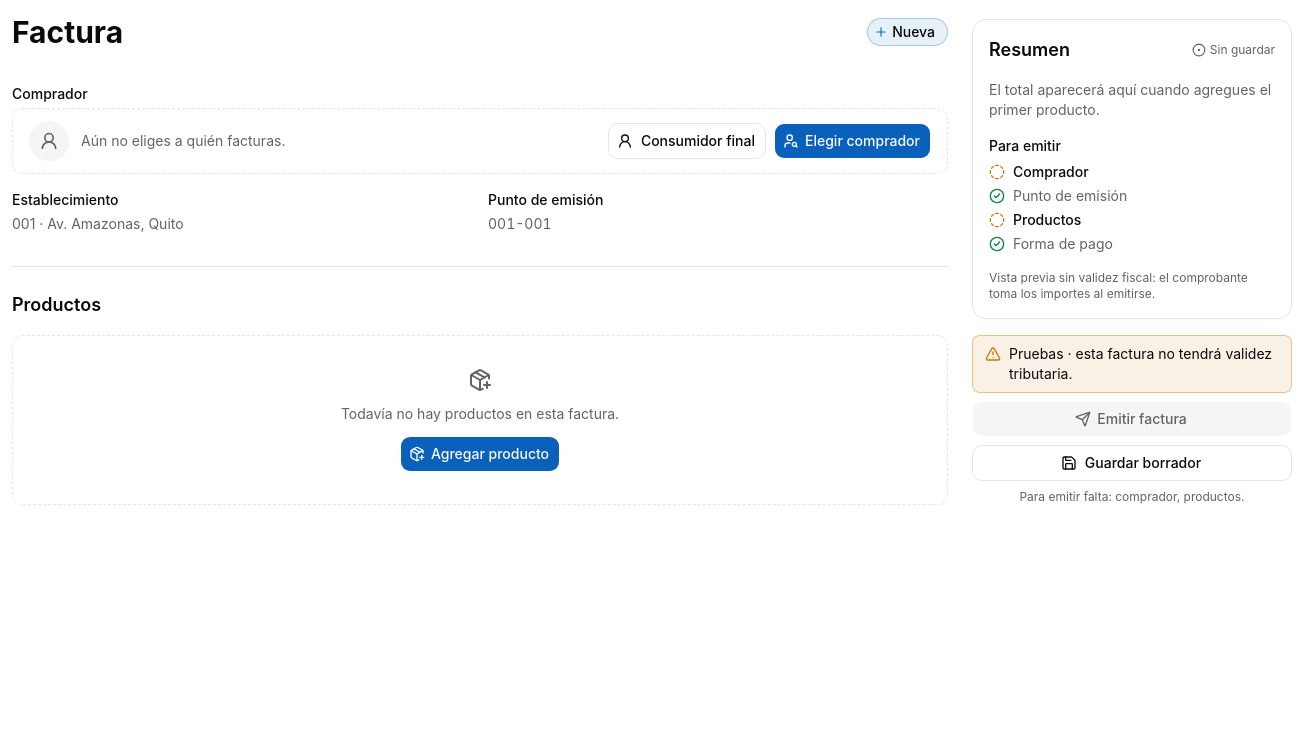
Scenario: emitir como acción principal › un borrador incompleto, sin comprador ni líneas, se guarda
expect the text "001 · Av. Amazonas, Quito" is shown: met, box [12,215,184,232]
Click the button "Guardar borrador". click: (1132, 463)
box: [972,445,1292,481]
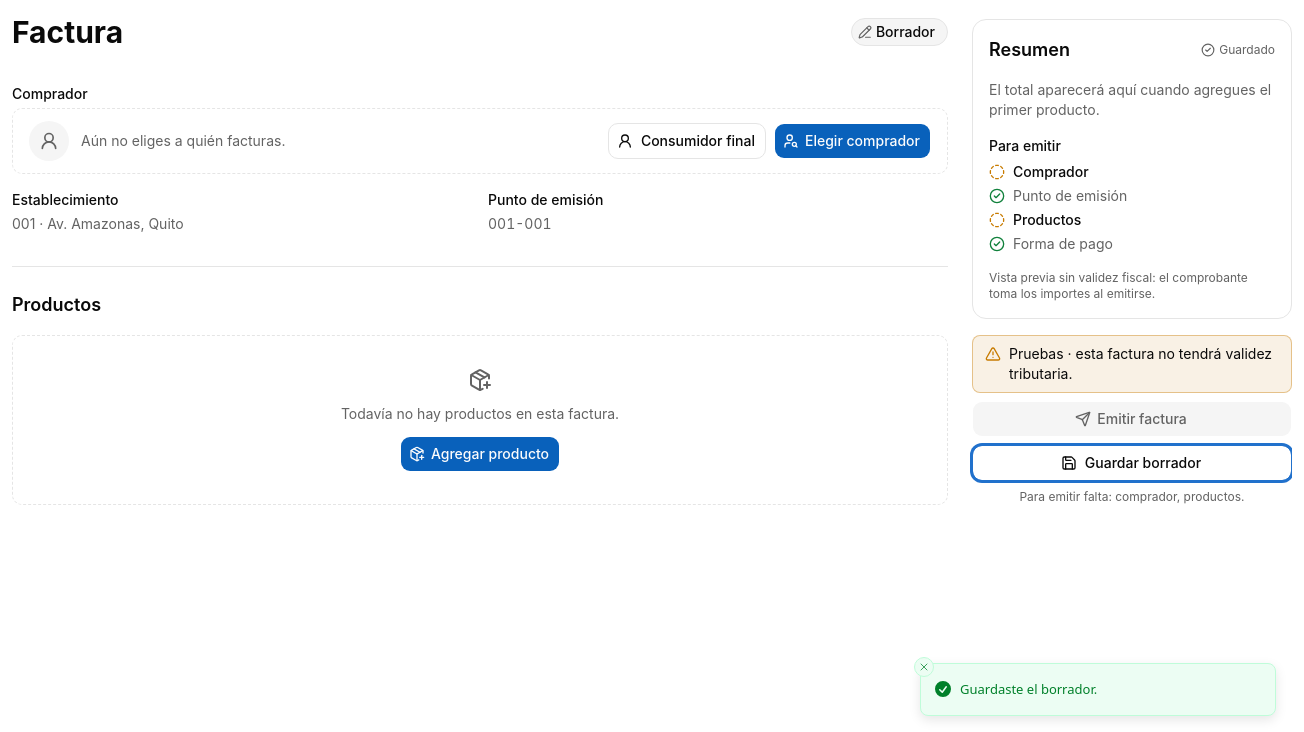
expect the text "Guardaste el borrador." is shown: met, box [960,680,1097,699]
expect the heading "Factura Borrador" is shown: met, box [12,14,948,50]
expect the message "Guardado" is shown: met, box [1201,42,1275,58]
